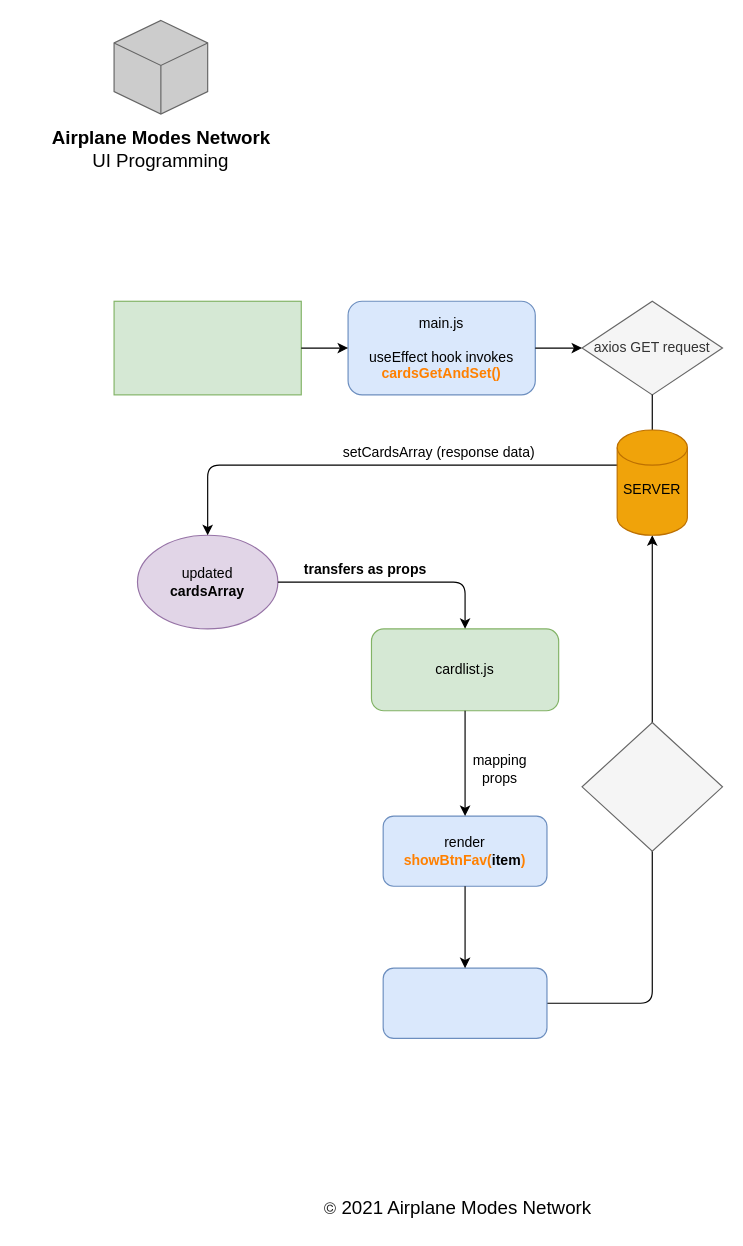
Some shapes in this 743 by 1246 pixel diagram are drawn without their labels. The centre of each missing label's shape, as x and y in pixels:
"addFavoriteCard ( item.bsnNumber )" goes at (x=464, y=1002).
"axios PATCH request" goes at (x=651, y=786).
"main.js useState hook creates cardsArray" goes at (x=207, y=347).
